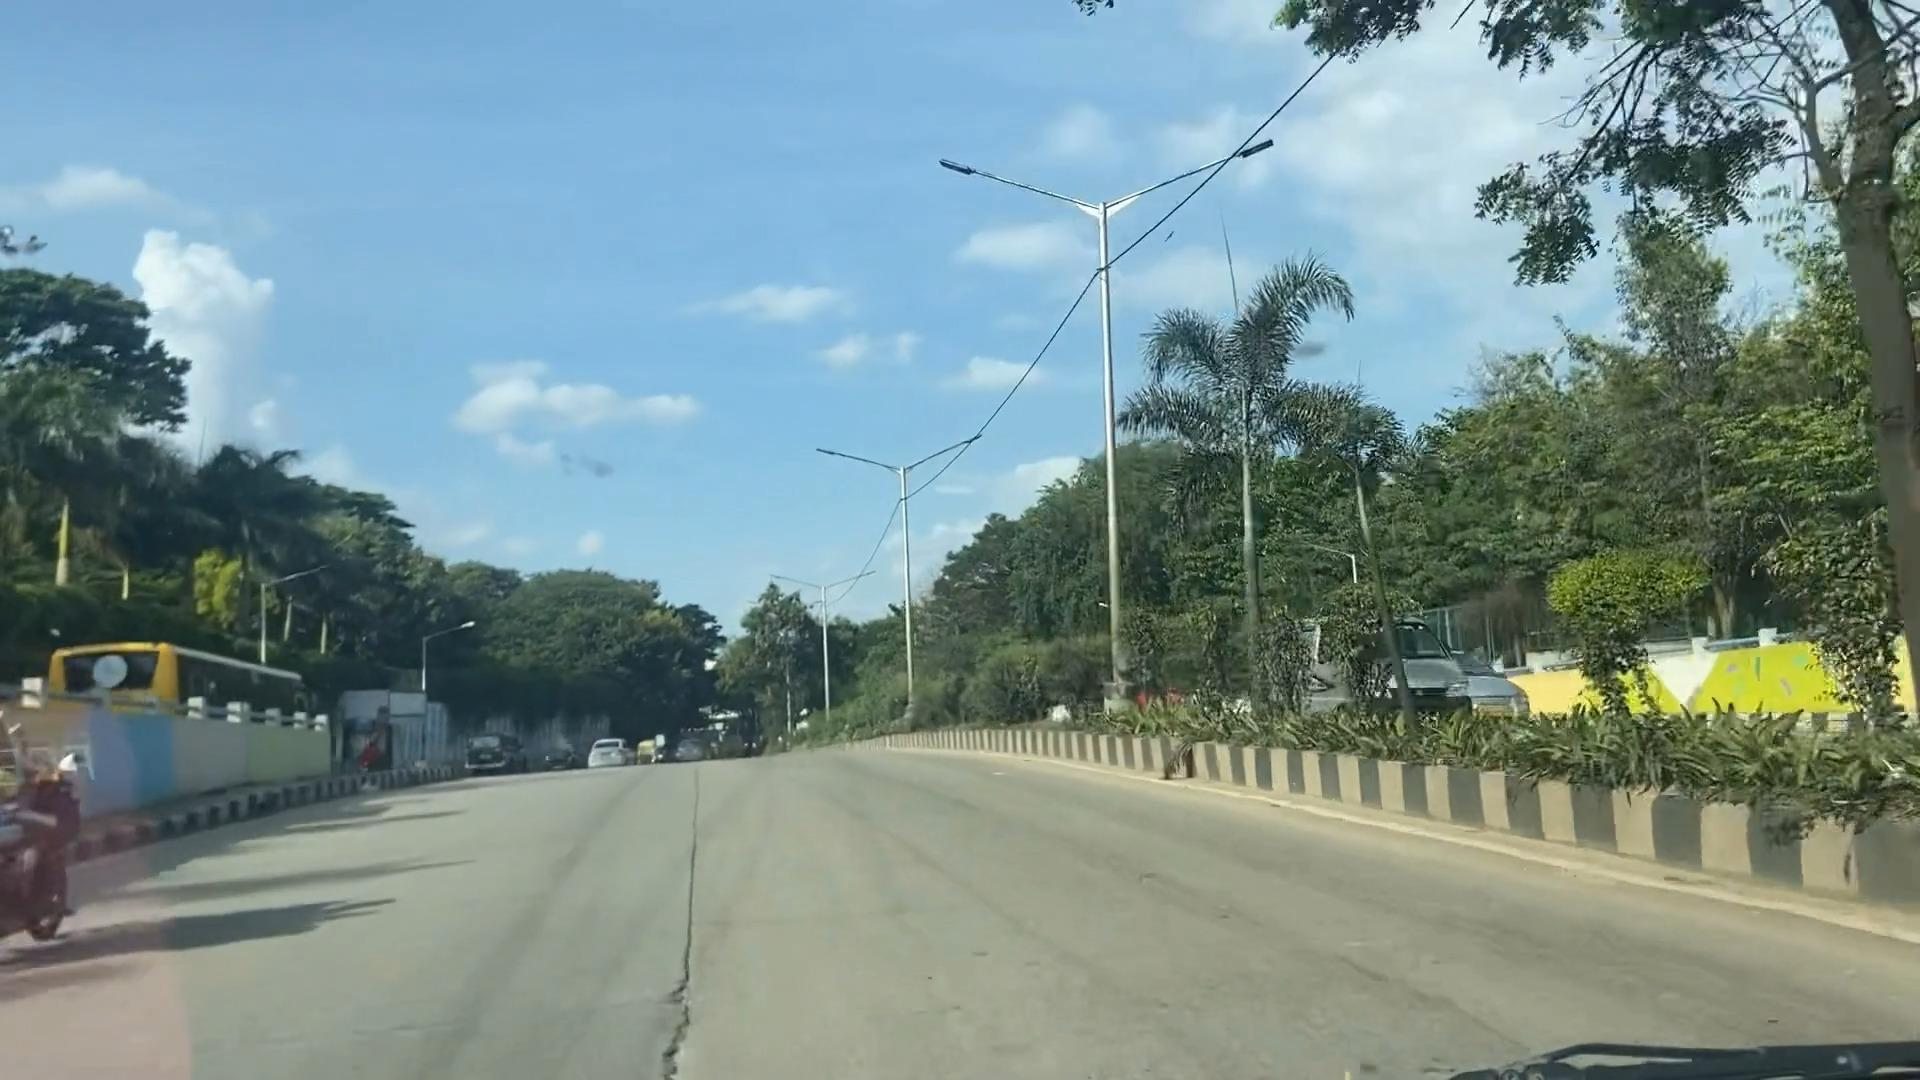RoadDamages: (646, 768, 721, 1080)
